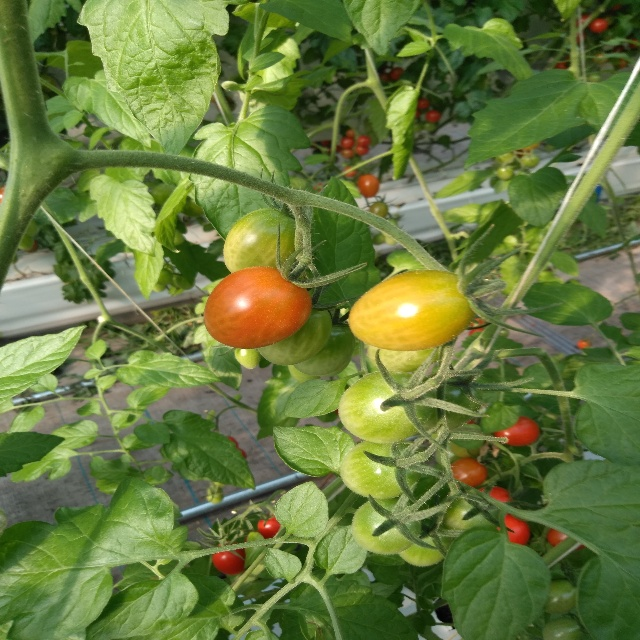l_fully_ripened: (493, 415, 541, 448), (210, 541, 246, 575), (505, 514, 530, 545), (257, 512, 280, 538)
l_green: (339, 369, 441, 444), (223, 208, 300, 274), (339, 439, 423, 499), (256, 301, 333, 366), (351, 497, 422, 555), (422, 373, 482, 434), (293, 323, 355, 376), (439, 492, 500, 540), (397, 522, 451, 567), (367, 344, 445, 371), (542, 616, 589, 640), (545, 580, 575, 614), (234, 347, 261, 370), (287, 365, 321, 383)
l_half_ripened: (348, 269, 478, 351), (204, 266, 312, 348), (451, 458, 487, 487)
